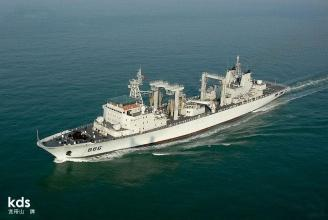warship: (33, 47, 288, 160)
